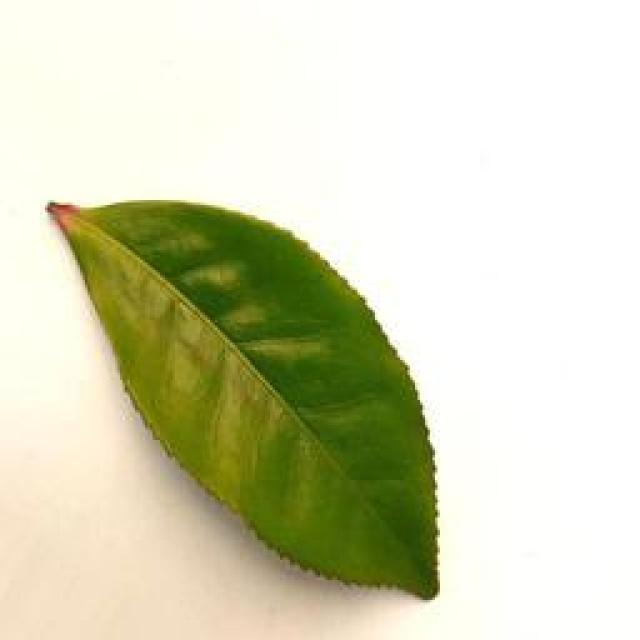Healthy: (43, 187, 446, 604)
